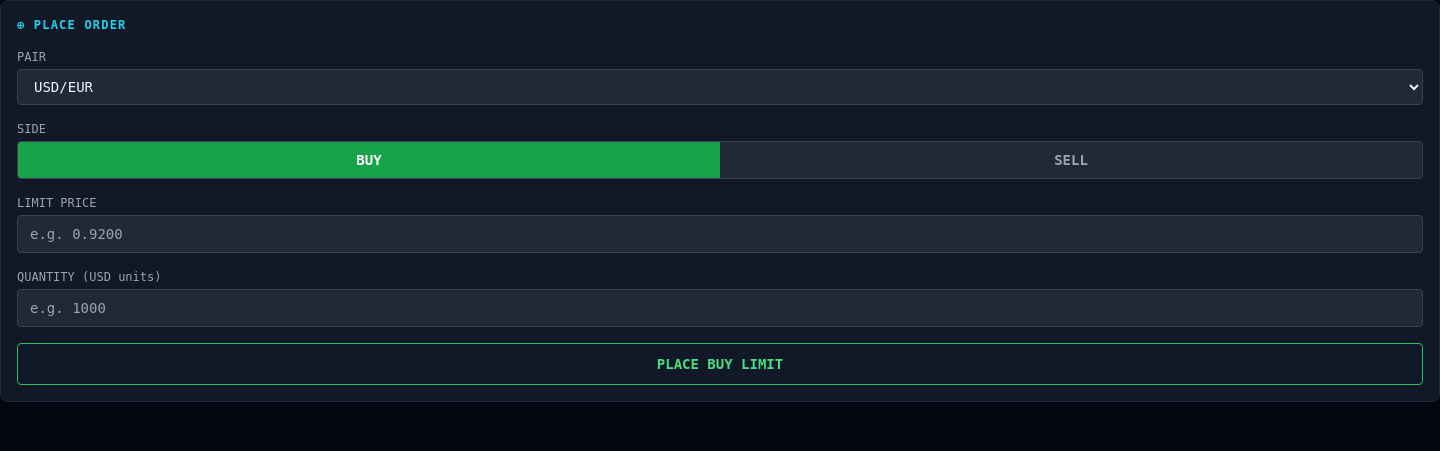
PlaceOrderForm › shows success message after order placed
The image size is (1440, 451).
In the number field with placeholder "e.g. 0.9200": (720, 234) 17,215 -> 1423,253, type "0.92"
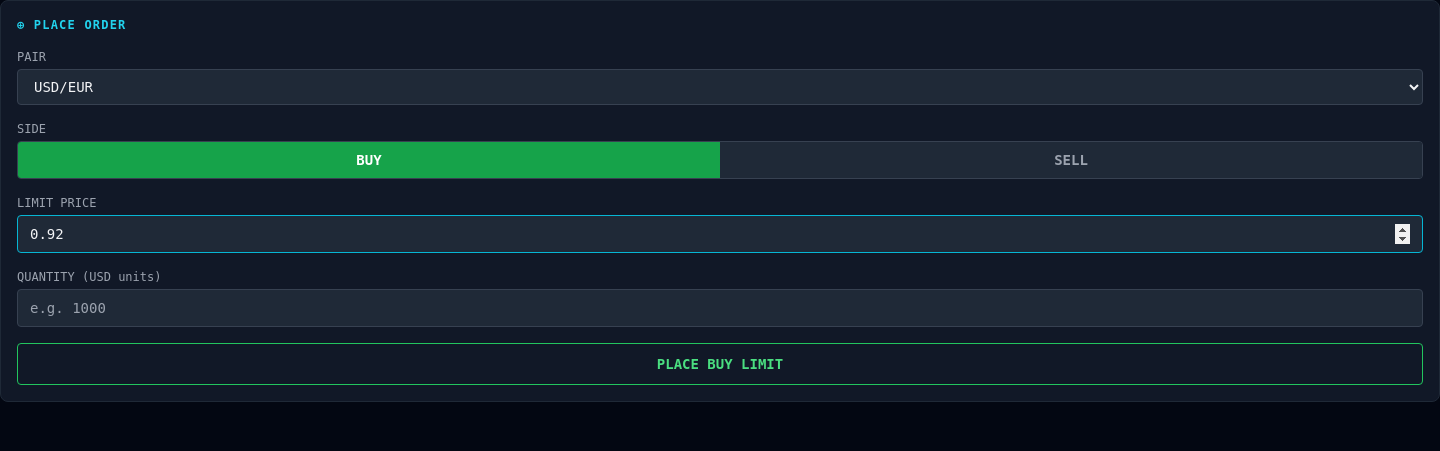
In the number field with placeholder "e.g. 1000": (720, 308) 17,289 -> 1423,327, type "500"
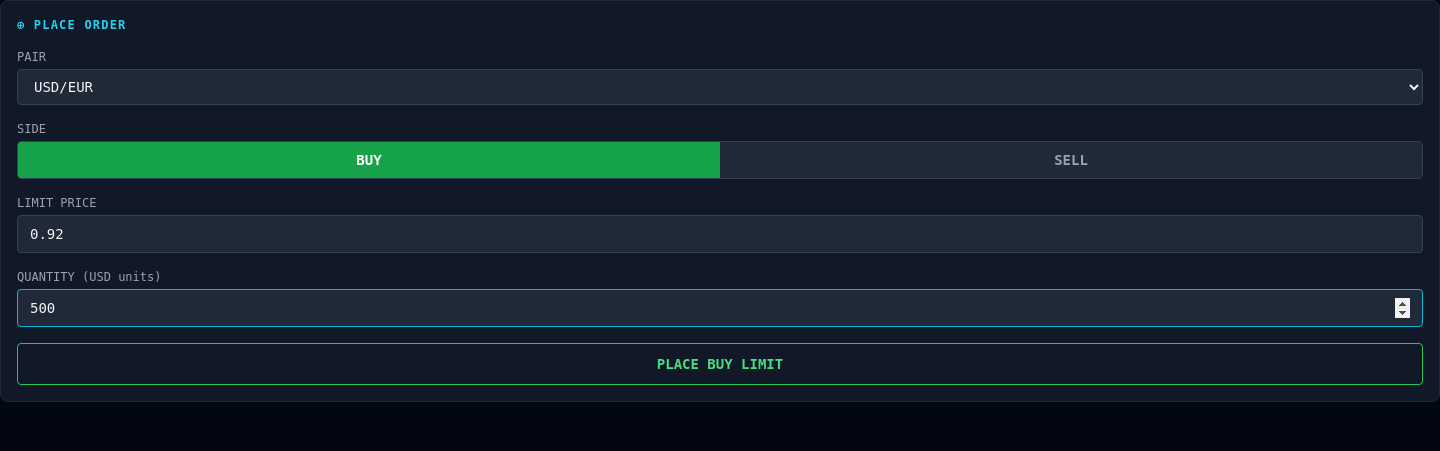
Click the button "PLACE BUY LIMIT": (720, 364) 17,343 -> 1423,385
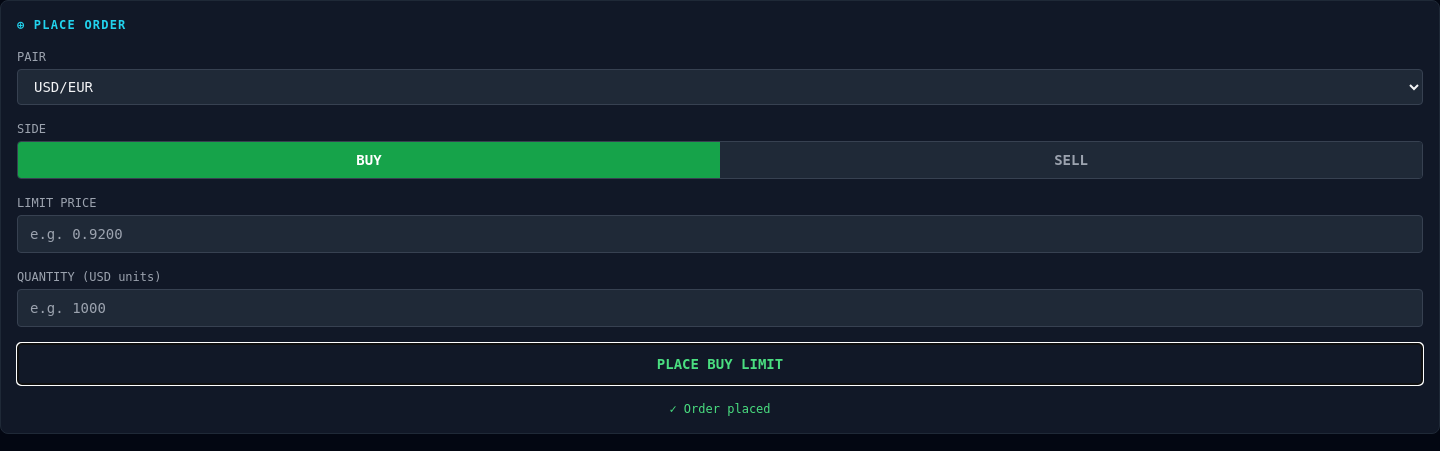
Expected: the text "✓ Order placed" is shown, 669,402 -> 771,416
